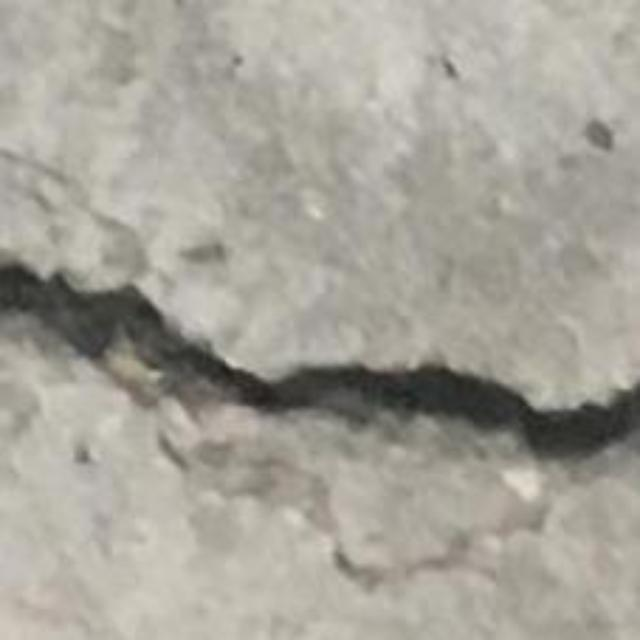crack: (0, 232, 639, 589)
